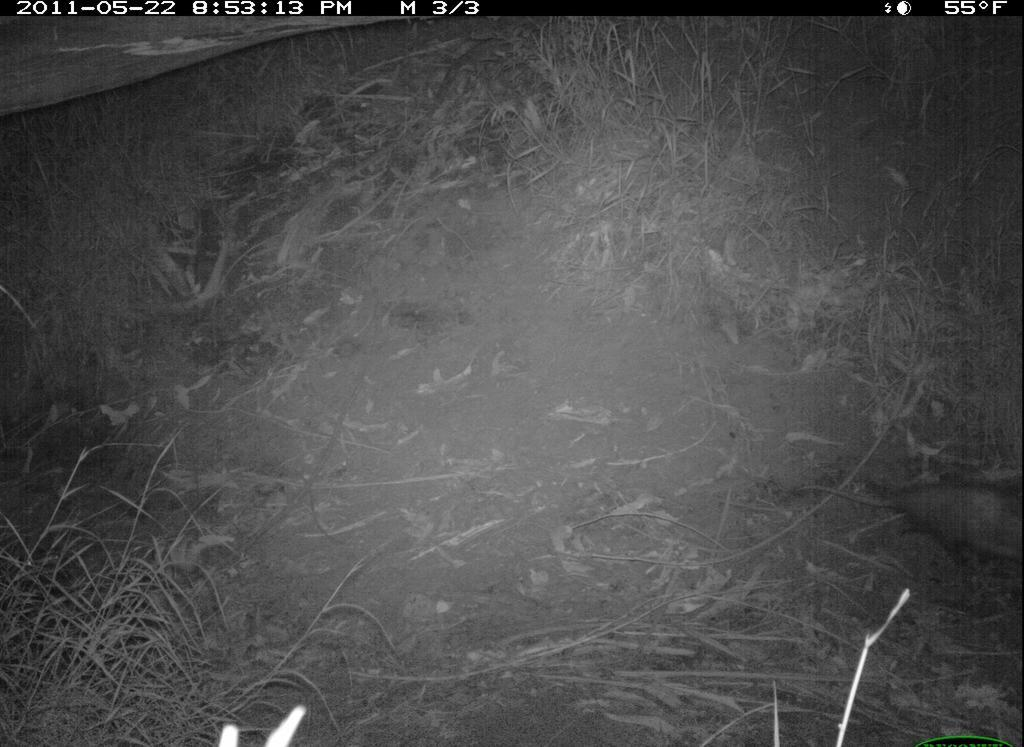opossum: (794, 468, 1023, 580)
